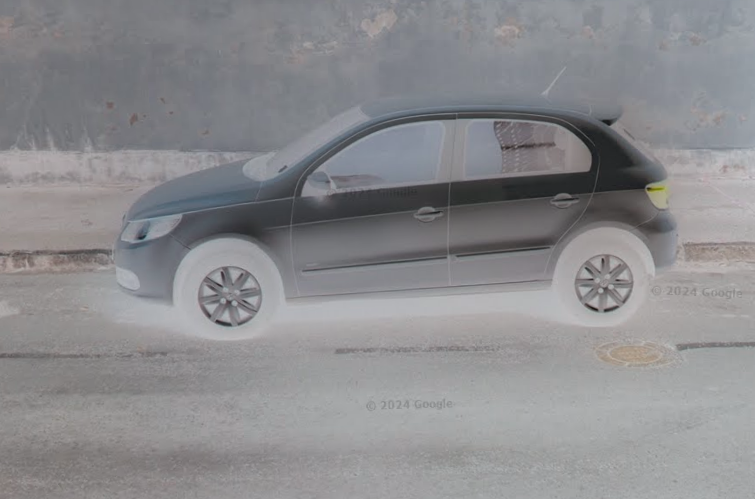car: (108, 62, 682, 344)
